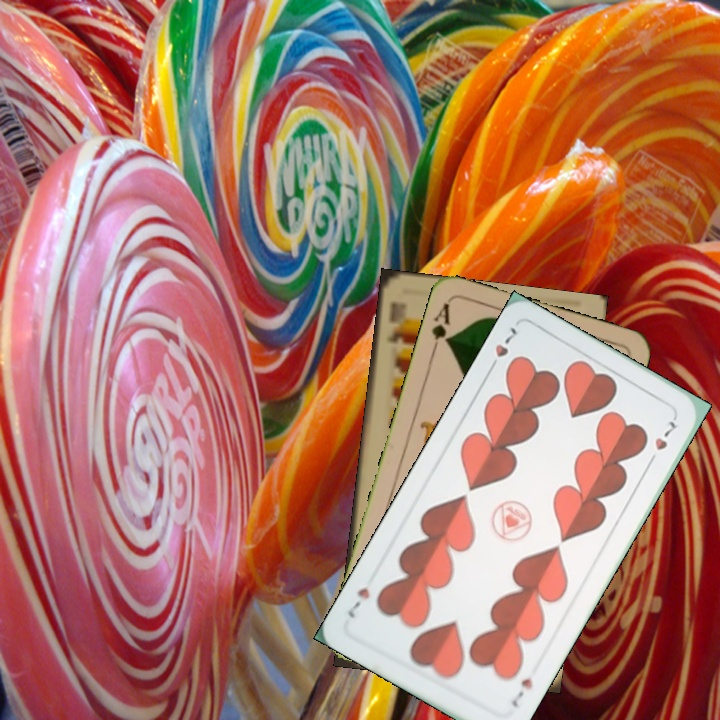E10: (383, 298, 409, 346)
GA: (427, 298, 453, 357)
H7: (484, 322, 520, 375), (507, 673, 535, 710)
